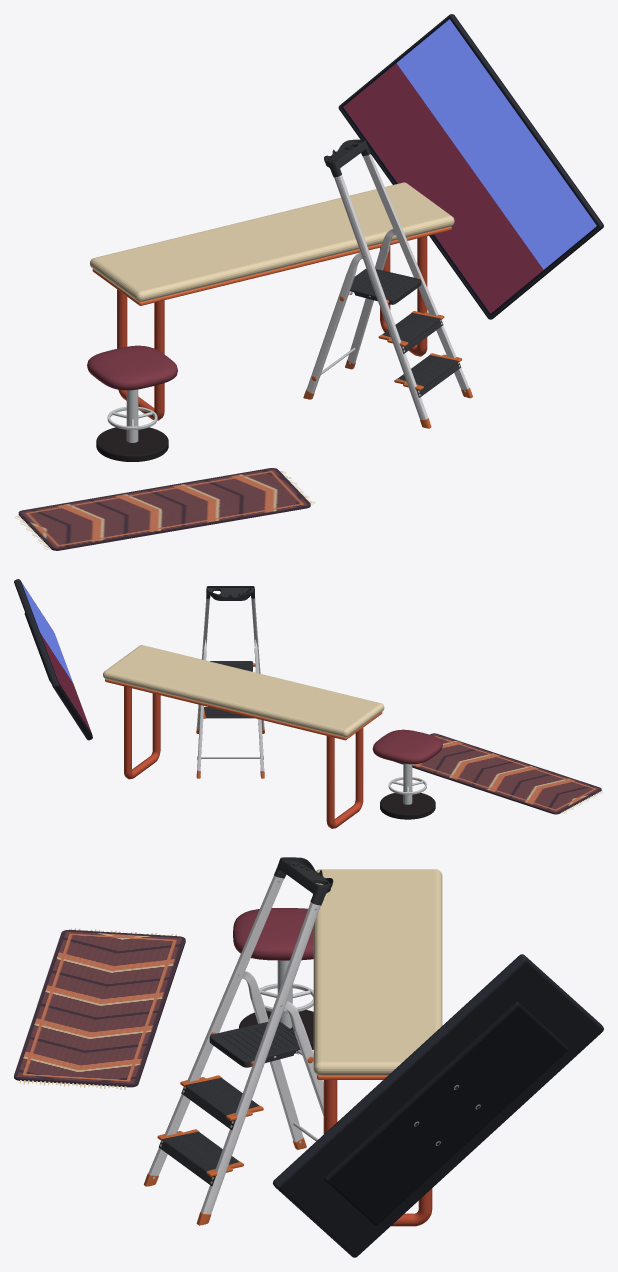
File: exchange.glb
The picture shows the model from 3 angles, top to bottom: view 1: azimuth 30°, elevation 25°; view 2: azimuth 150°, elevation 25°; view 3: azimuth 270°, elevation 25°; orthographic projection. The views are drawn at different scales.
Parts seen in each view (by area): view 1: TV / active picture.008, Lacquered counter, TV / active picture.009, Flatwoven pile.001, Stepladder, Vinyl seat, TV / graphite frame.004, Weighted foot, TV / glass surround.004, Bent tubular trestle, Edge band, Bent tubular trestle.001; view 2: Lacquered counter, Flatwoven pile.001, Stepladder, Vinyl seat, Bent tubular trestle, Bent tubular trestle.001, TV / graphite frame.004, Weighted foot, Edge band, TV / active picture.009, TV / active picture.008, Adjustable post; view 3: Lacquered counter, TV / graphite frame.004, Flatwoven pile.001, TV / rear enclosure.004, Stepladder, Vinyl seat, Bent tubular trestle.001, TV / cooling louvres.004, Weighted foot.
Part boxes in pixels (x1=…): TV / active picture.008: x1=343, y1=19, x2=523, y2=199; Lacquered counter: x1=90, y1=182, x2=454, y2=302; TV / active picture.009: x1=430, y1=122, x2=596, y2=313; Flatwoven pile.001: x1=18, y1=468, x2=310, y2=550; Stepladder: x1=303, y1=139, x2=472, y2=428; Vinyl seat: x1=87, y1=345, x2=177, y2=390; TV / graphite frame.004: x1=338, y1=14, x2=603, y2=319; Weighted foot: x1=96, y1=427, x2=168, y2=461; TV / glass surround.004: x1=341, y1=16, x2=599, y2=316; Bent tubular trestle: x1=117, y1=289, x2=164, y2=420; Edge band: x1=92, y1=226, x2=451, y2=305; Bent tubular trestle.001: x1=380, y1=236, x2=427, y2=356; Lacquered counter: x1=103, y1=645, x2=384, y2=737; Flatwoven pile.001: x1=396, y1=733, x2=601, y2=814; Stepladder: x1=196, y1=586, x2=264, y2=778; Vinyl seat: x1=372, y1=729, x2=442, y2=764; Bent tubular trestle: x1=326, y1=728, x2=363, y2=828; Bent tubular trestle.001: x1=124, y1=686, x2=160, y2=779; TV / graphite frame.004: x1=14, y1=579, x2=92, y2=740; Weighted foot: x1=380, y1=793, x2=435, y2=819; Edge band: x1=105, y1=679, x2=382, y2=740; TV / active picture.009: x1=38, y1=608, x2=91, y2=732; TV / active picture.008: x1=21, y1=582, x2=74, y2=706; Adjustable post: x1=403, y1=763, x2=412, y2=804; Lacquered counter: x1=313, y1=869, x2=442, y2=1075; TV / graphite frame.004: x1=273, y1=954, x2=603, y2=1257; Flatwoven pile.001: x1=14, y1=929, x2=185, y2=1087; TV / rear enclosure.004: x1=324, y1=1002, x2=568, y2=1225; Stepladder: x1=144, y1=857, x2=333, y2=1225; Vinyl seat: x1=233, y1=908, x2=313, y2=960; Bent tubular trestle.001: x1=323, y1=1080, x2=432, y2=1226; TV / cooling louvres.004: x1=353, y1=1029, x2=507, y2=1170; Weighted foot: x1=239, y1=1010, x2=313, y2=1053.
Bounding box in the file's own units: 13.86 × 5.47 × 8.7.
Materials: 15 (4 with a texture image).
